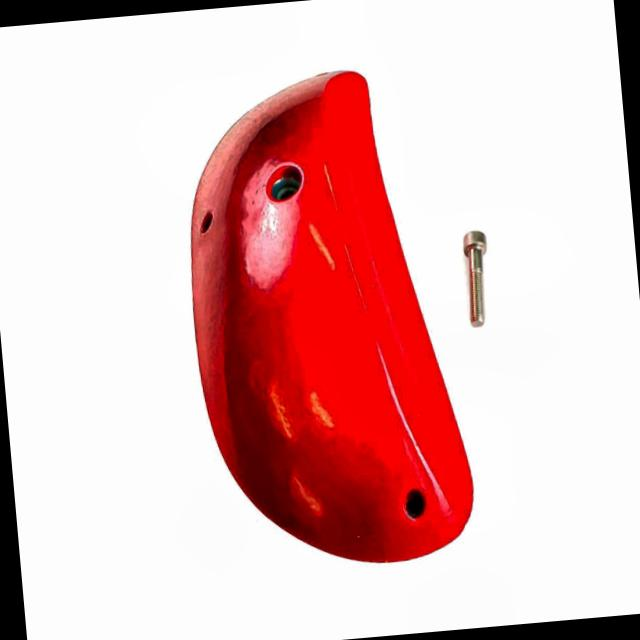Hold: (190, 57, 489, 572)
